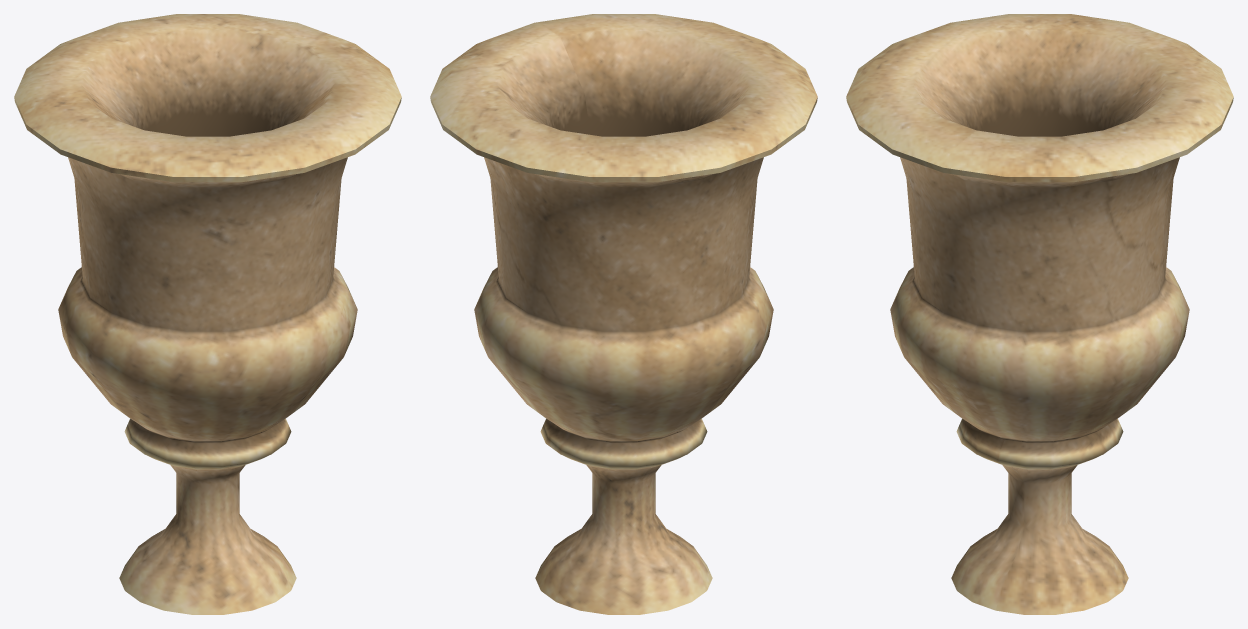
File: SM_Tus_Vasque_LP3.fbx
3 renders of one model, left to right at view 1: azimuth 30°, elevation 25°; view 2: azimuth 150°, elevation 25°; view 3: azimuth 270°, elevation 25°, orthographic.
Visible parts, largest first — view 1: SM_Tus_Vasque_LP3; view 2: SM_Tus_Vasque_LP3; view 3: SM_Tus_Vasque_LP3.
Boxes of the visible parts, x1,y1,x2,y2 form: SM_Tus_Vasque_LP3: (14,14,401,614); SM_Tus_Vasque_LP3: (430,14,817,614); SM_Tus_Vasque_LP3: (846,14,1233,614).
Size of the model in its own units: 0.5866 by 0.8411 by 0.5977.
1 material, 1 textured.
